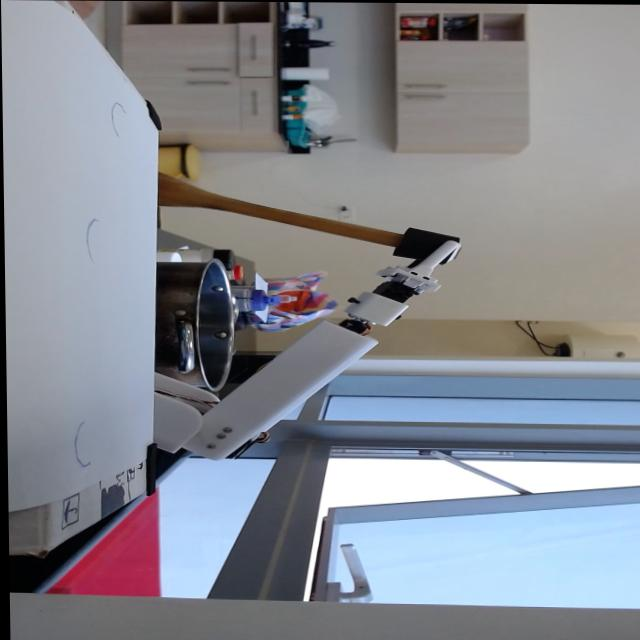cooking_pot: (152, 259, 237, 390)
spatula: (157, 171, 459, 267)
